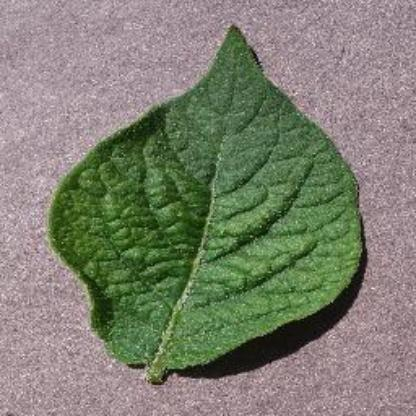Healthy-plant: (44, 22, 370, 388)
